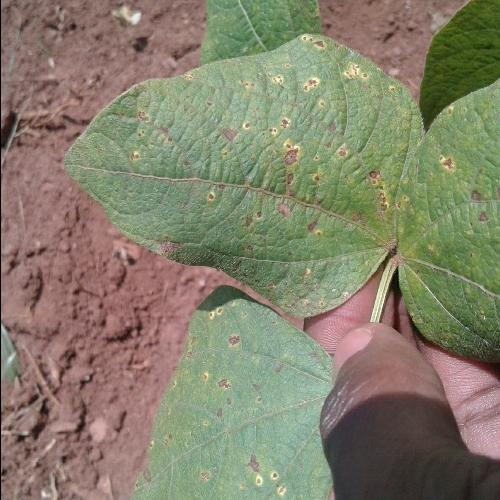hawar: (190, 59, 397, 259), (422, 127, 500, 277), (194, 317, 284, 400), (122, 93, 186, 192), (239, 436, 298, 500)
